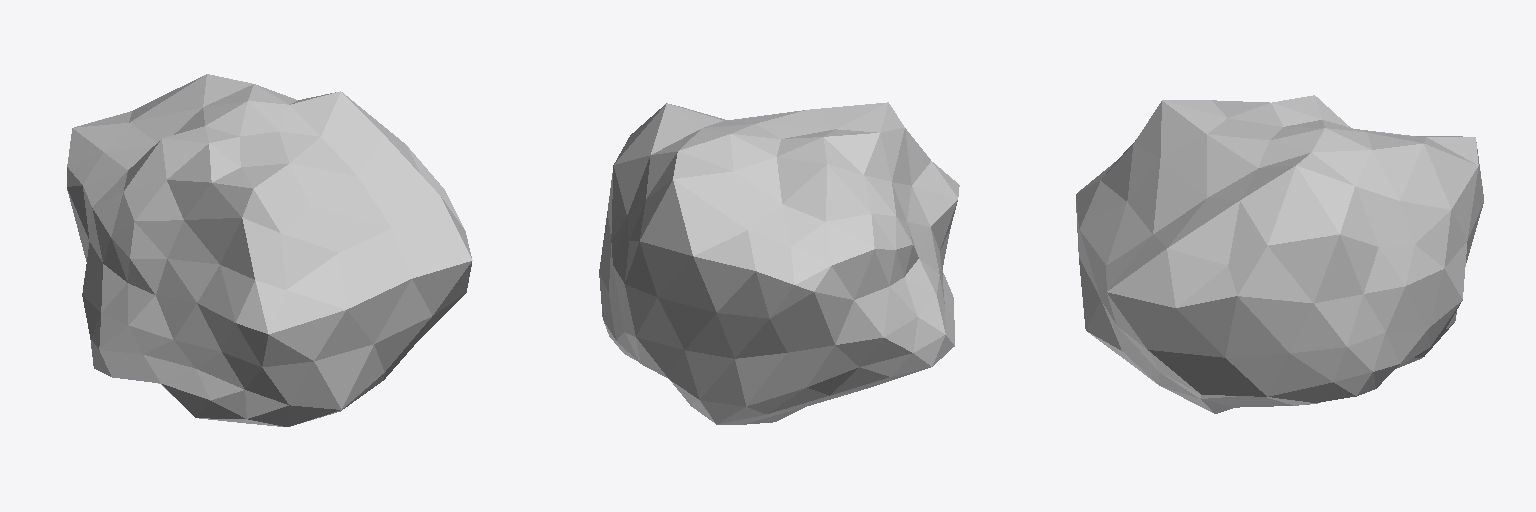
Rendered from asteroid_01.obj.
3 renders of one model, left to right at view 1: azimuth 30°, elevation 25°; view 2: azimuth 150°, elevation 25°; view 3: azimuth 270°, elevation 25°, orthographic.
Parts seen in each view (by area): view 1: asteroid1_asteroid; view 2: asteroid1_asteroid; view 3: asteroid1_asteroid.
Part boxes in pixels (x1,y1,x2,y2): asteroid1_asteroid: (67,74,472,426); asteroid1_asteroid: (599,102,959,424); asteroid1_asteroid: (1076,95,1483,413).
Bounding box in the file's own units: 1340 × 1043 × 1419.